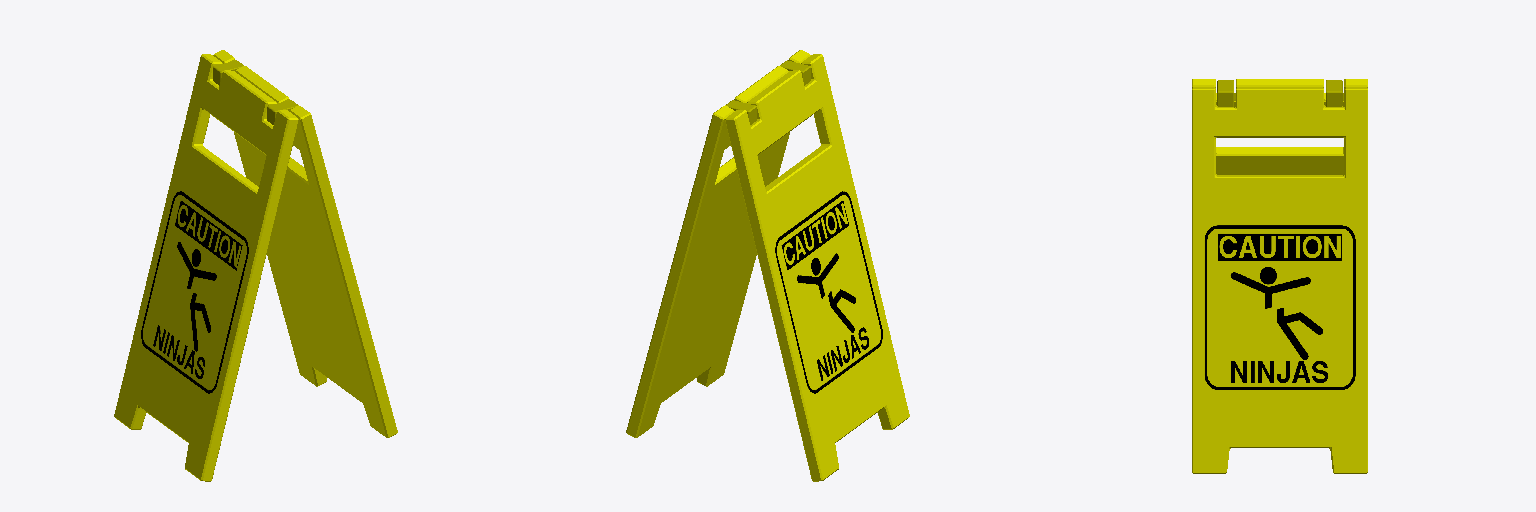
The picture shows the model from 3 angles: view 1: azimuth 30°, elevation 25°; view 2: azimuth 150°, elevation 25°; view 3: azimuth 270°, elevation 25°; orthographic projection.
Parts seen in each view (by area): view 1: Cube.001_Cube, Cube; view 2: Cube.001_Cube, Cube; view 3: Cube, Cube.001_Cube.
Boxes of the visible parts, box(x1,y1,x2,y2) form: Cube.001_Cube: box(114, 54, 298, 481); Cube: box(213, 50, 397, 437); Cube.001_Cube: box(725, 54, 909, 481); Cube: box(626, 50, 810, 437); Cube: box(1192, 87, 1367, 473); Cube.001_Cube: box(1192, 79, 1367, 174).
Size of the model in its own units: 2.58 by 4.31 by 2.
2 materials, 1 textured.